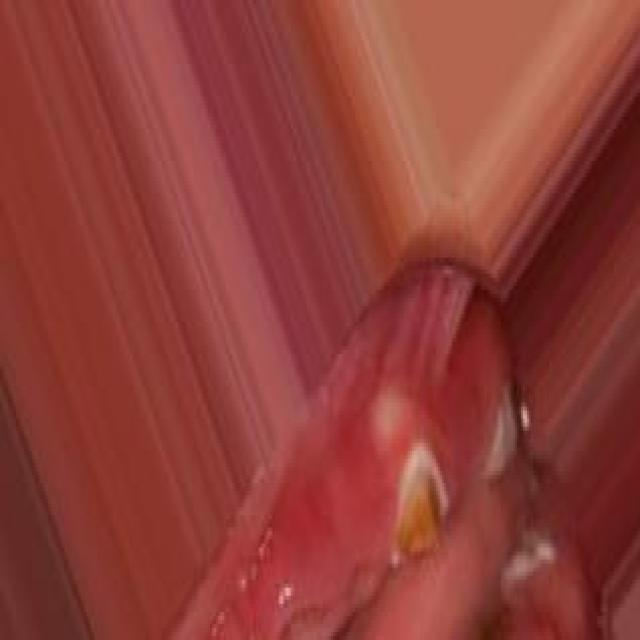caries: (389, 438, 458, 579)
